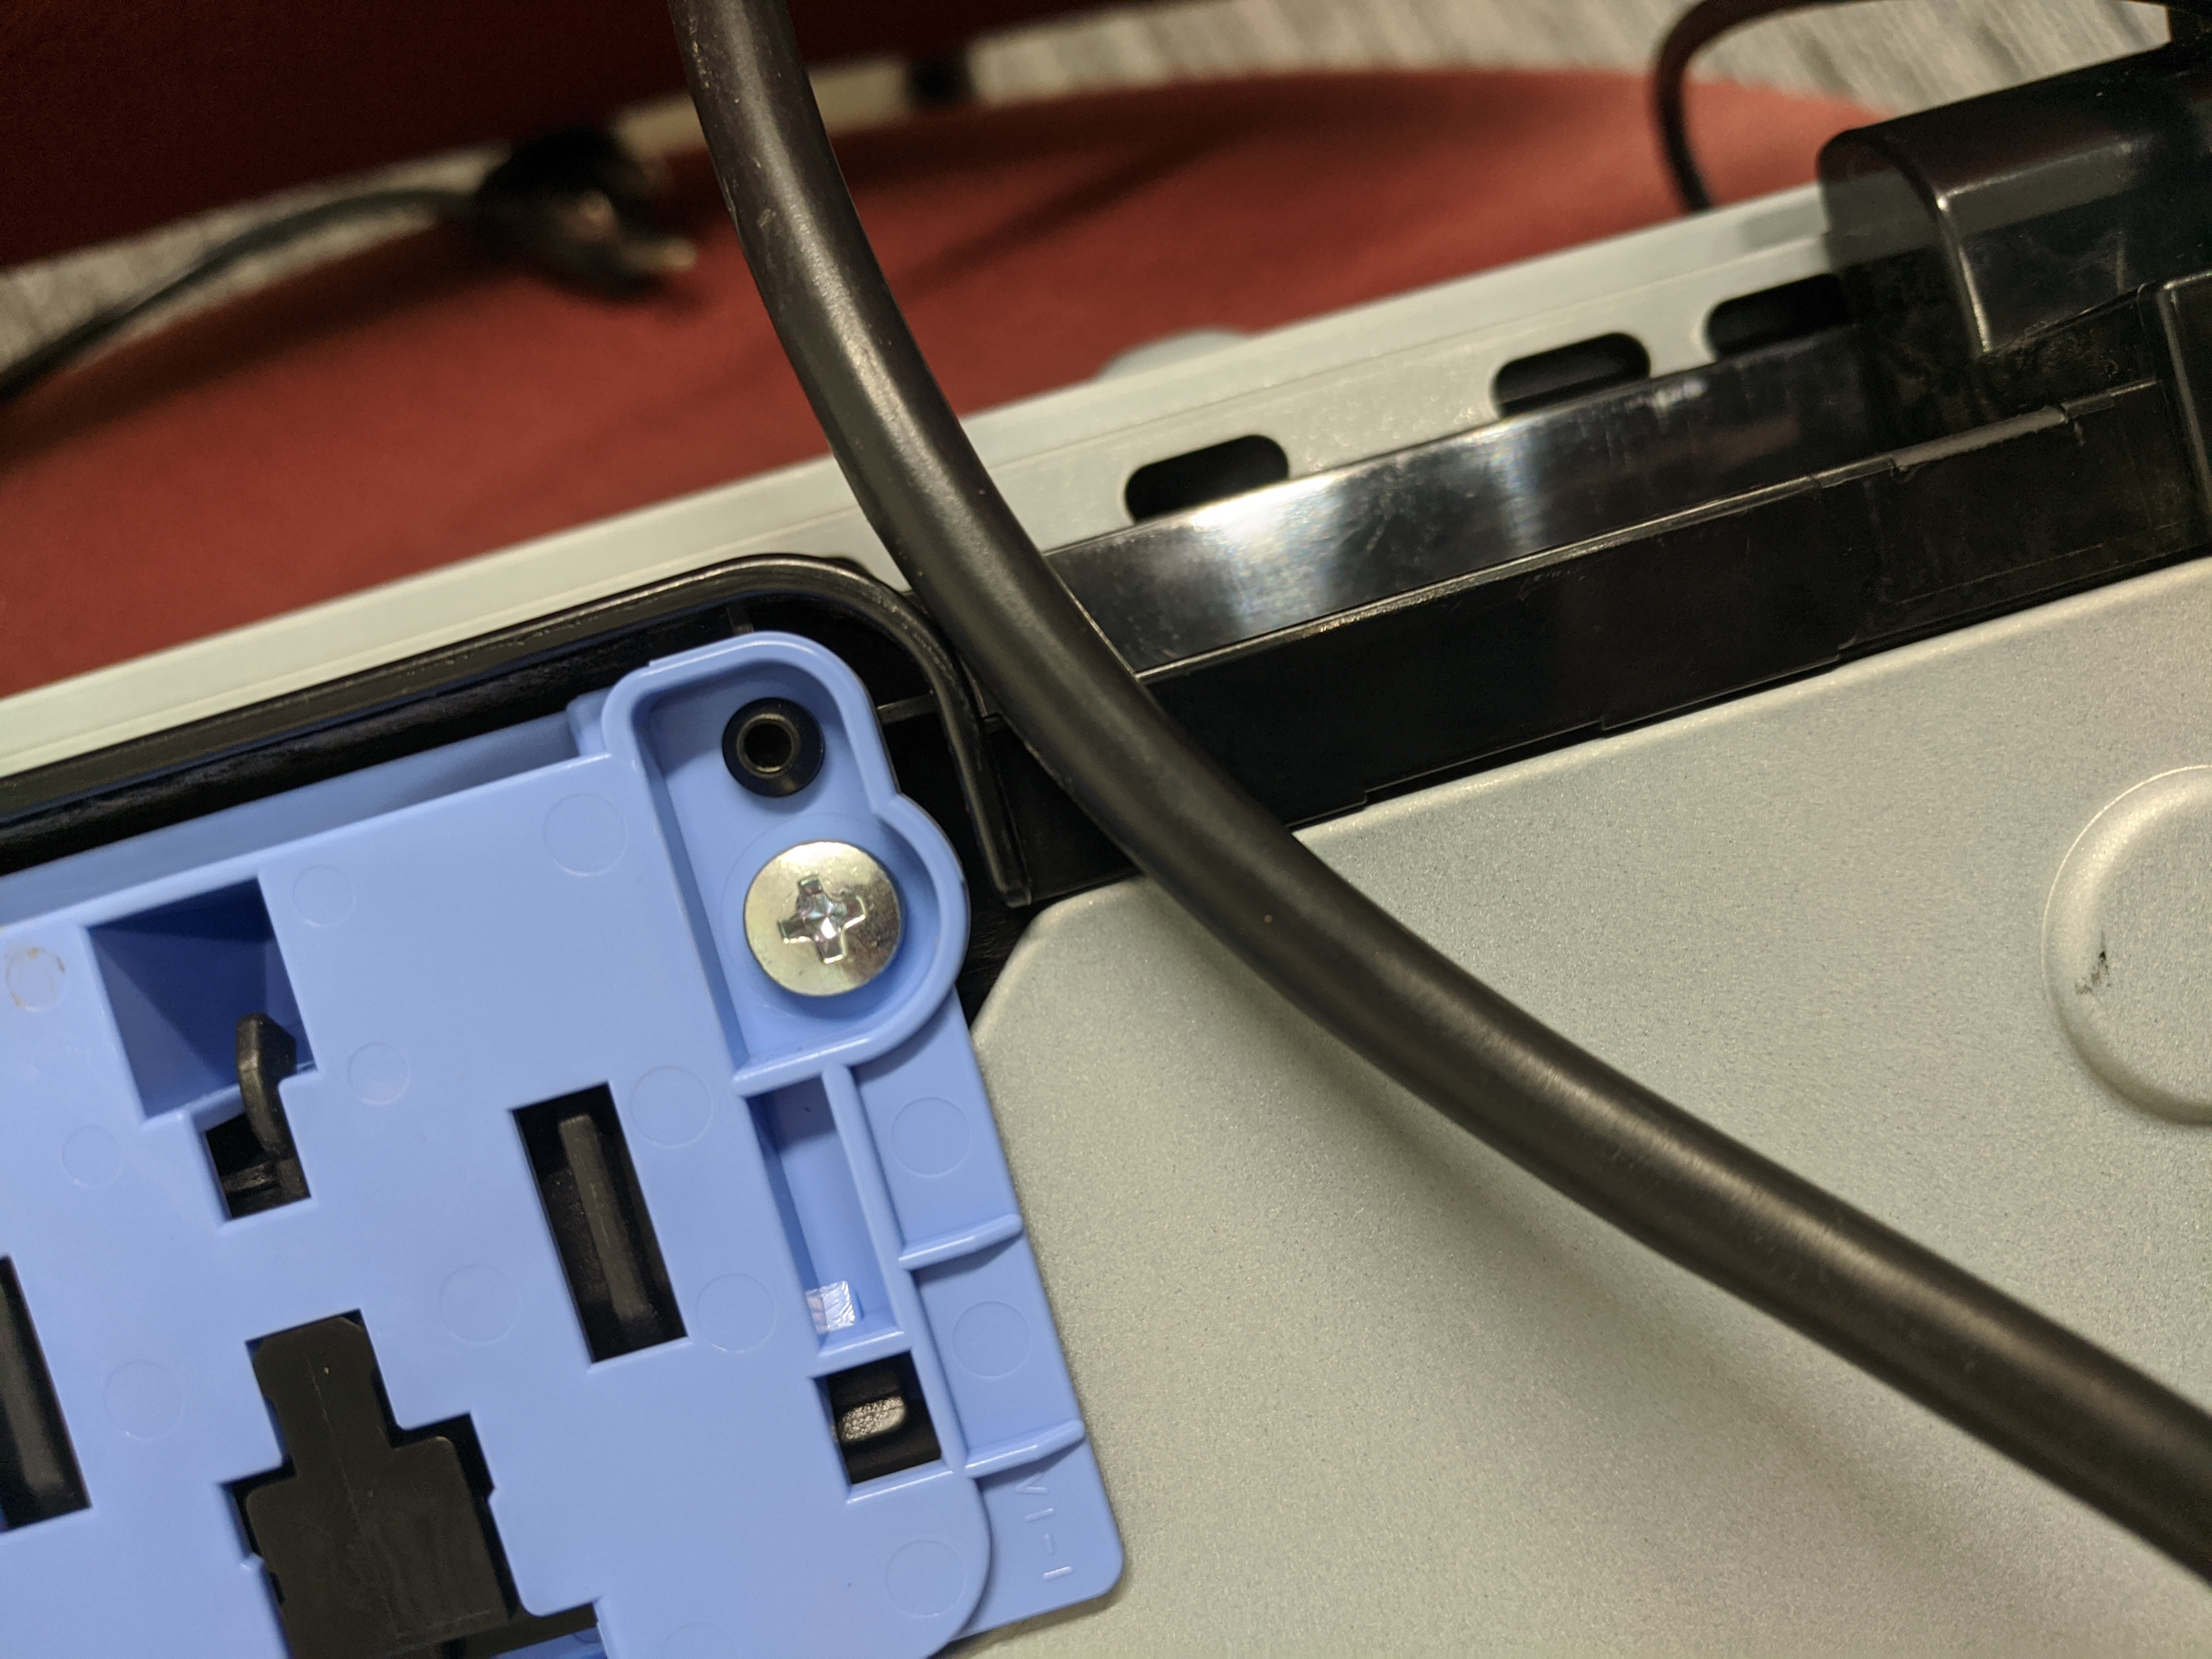cross_recessed_screw: (723, 833, 911, 1016)
